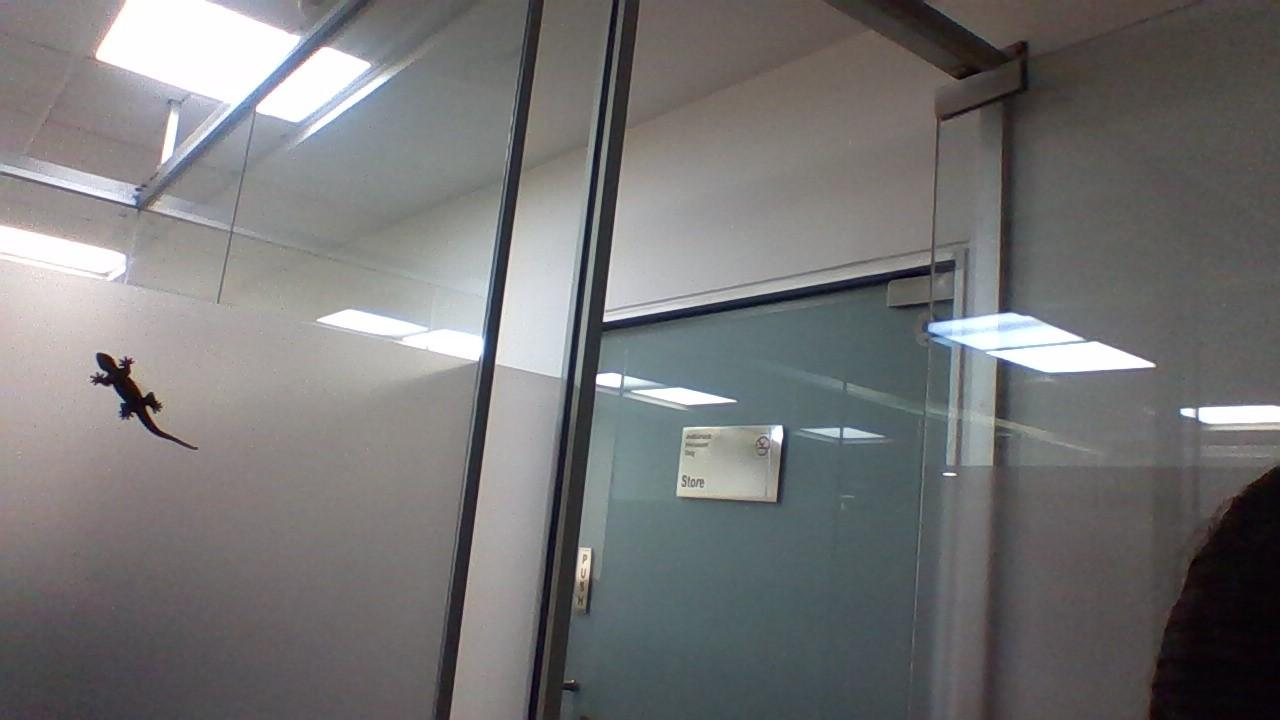lizard: (87, 349, 199, 453)
